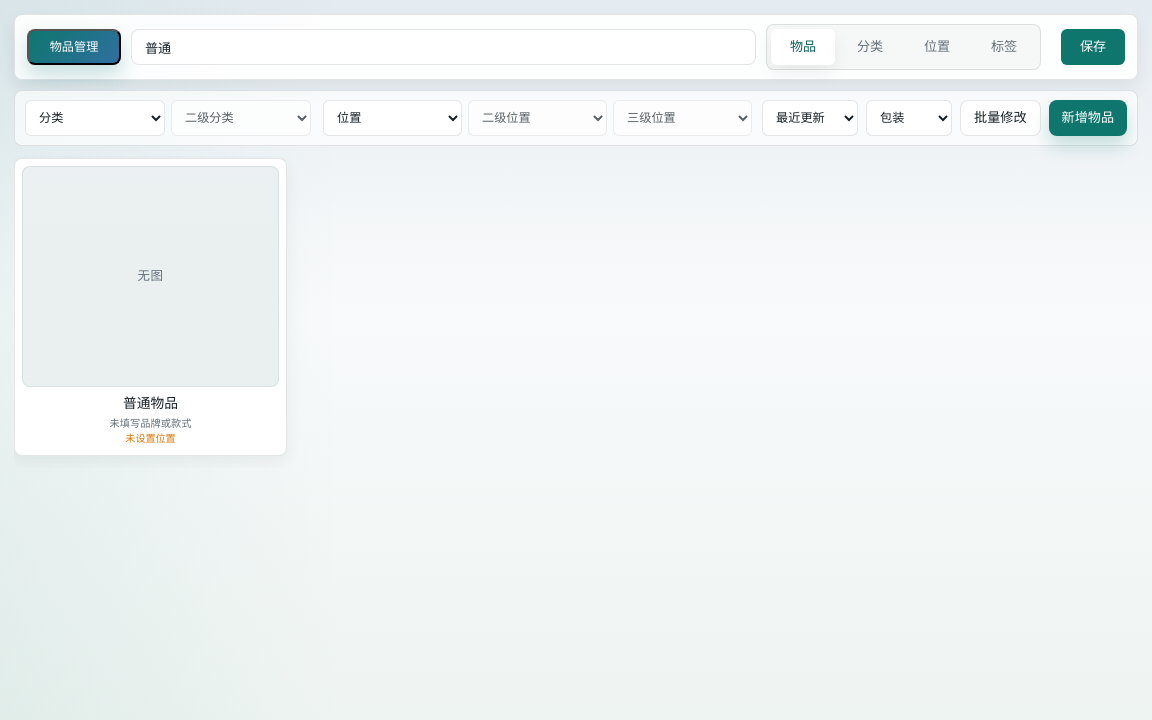
Test: password gated browser inventory › silently leaves ordinary records unchanged for an unsuccessful password attempt wrong-password
Expected: the button "无图 普通物品 未填写品牌或款式 未设置位置" is shown, [14, 158, 287, 456]
Step 1. Click the button "物品管理" → click(74, 47), box [27, 29, 121, 65]
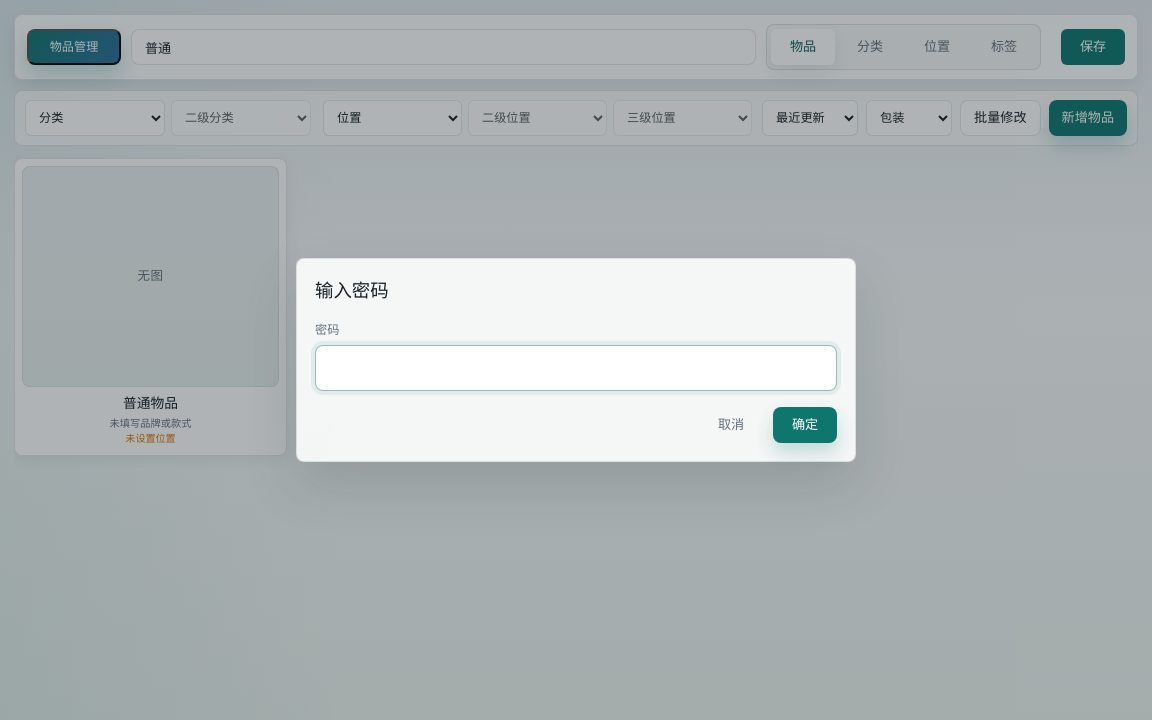
Step 2. Type "wrong-password" into the password field labelled "密码" → (576, 368), box [315, 345, 837, 391]
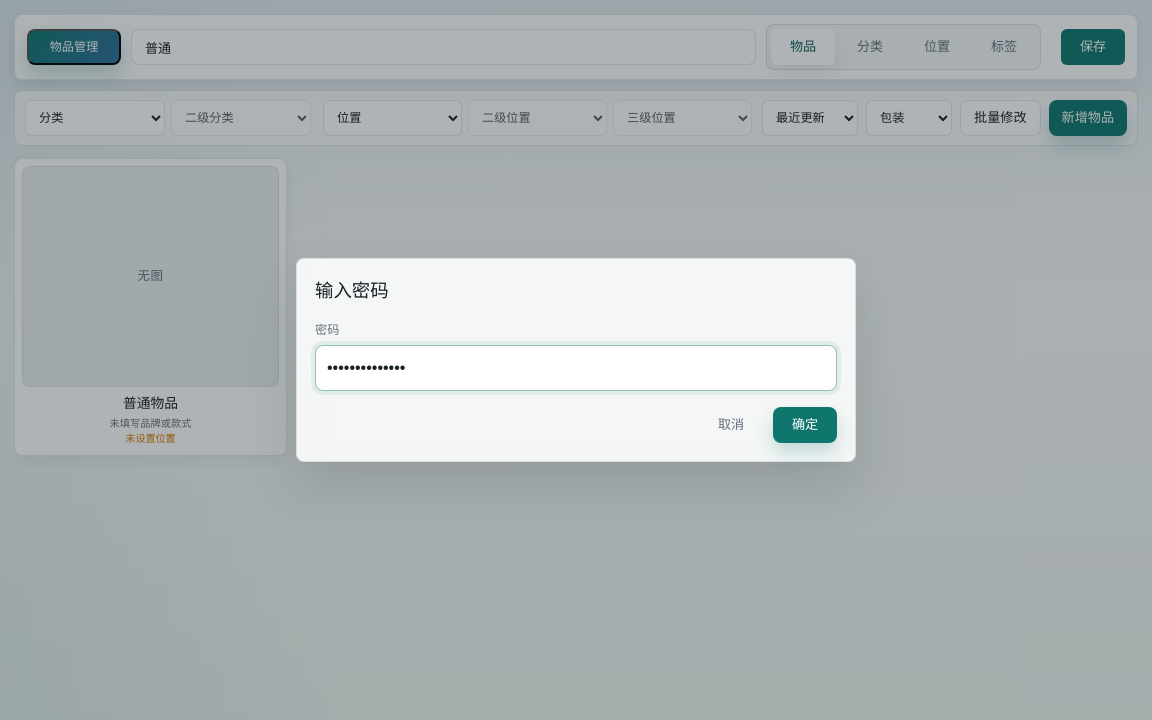
Step 3. Click the button "确定" → click(805, 425), box [773, 407, 837, 443]
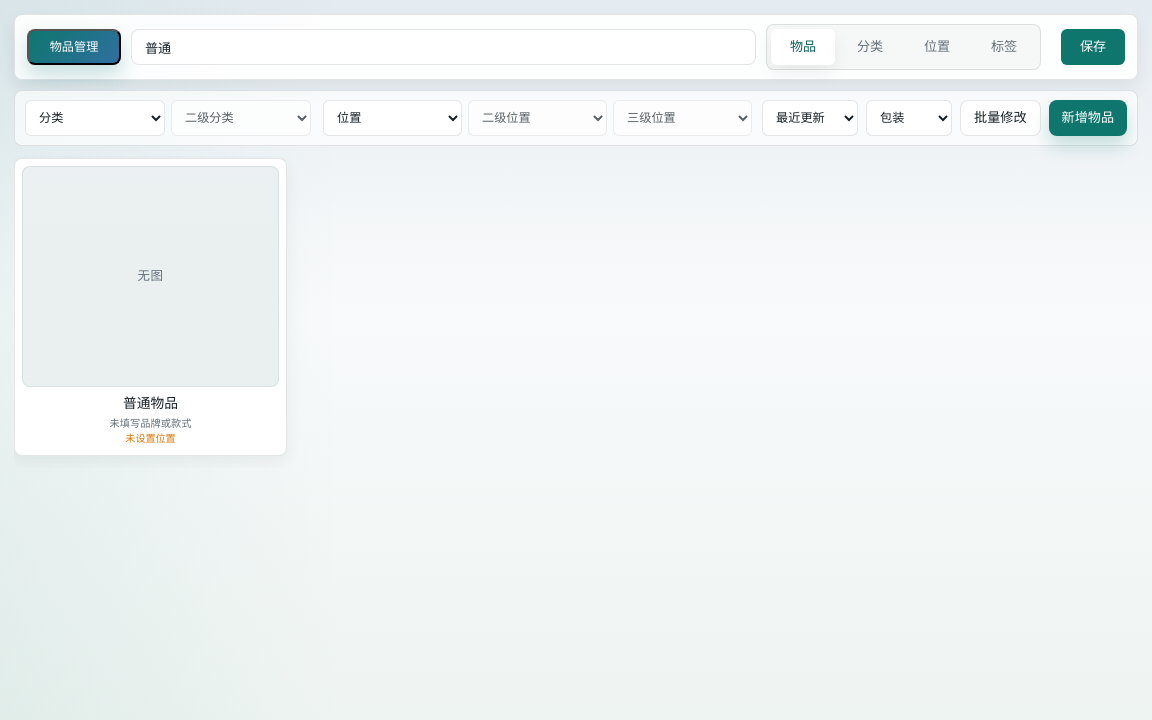
Expected: the dialog is gone
